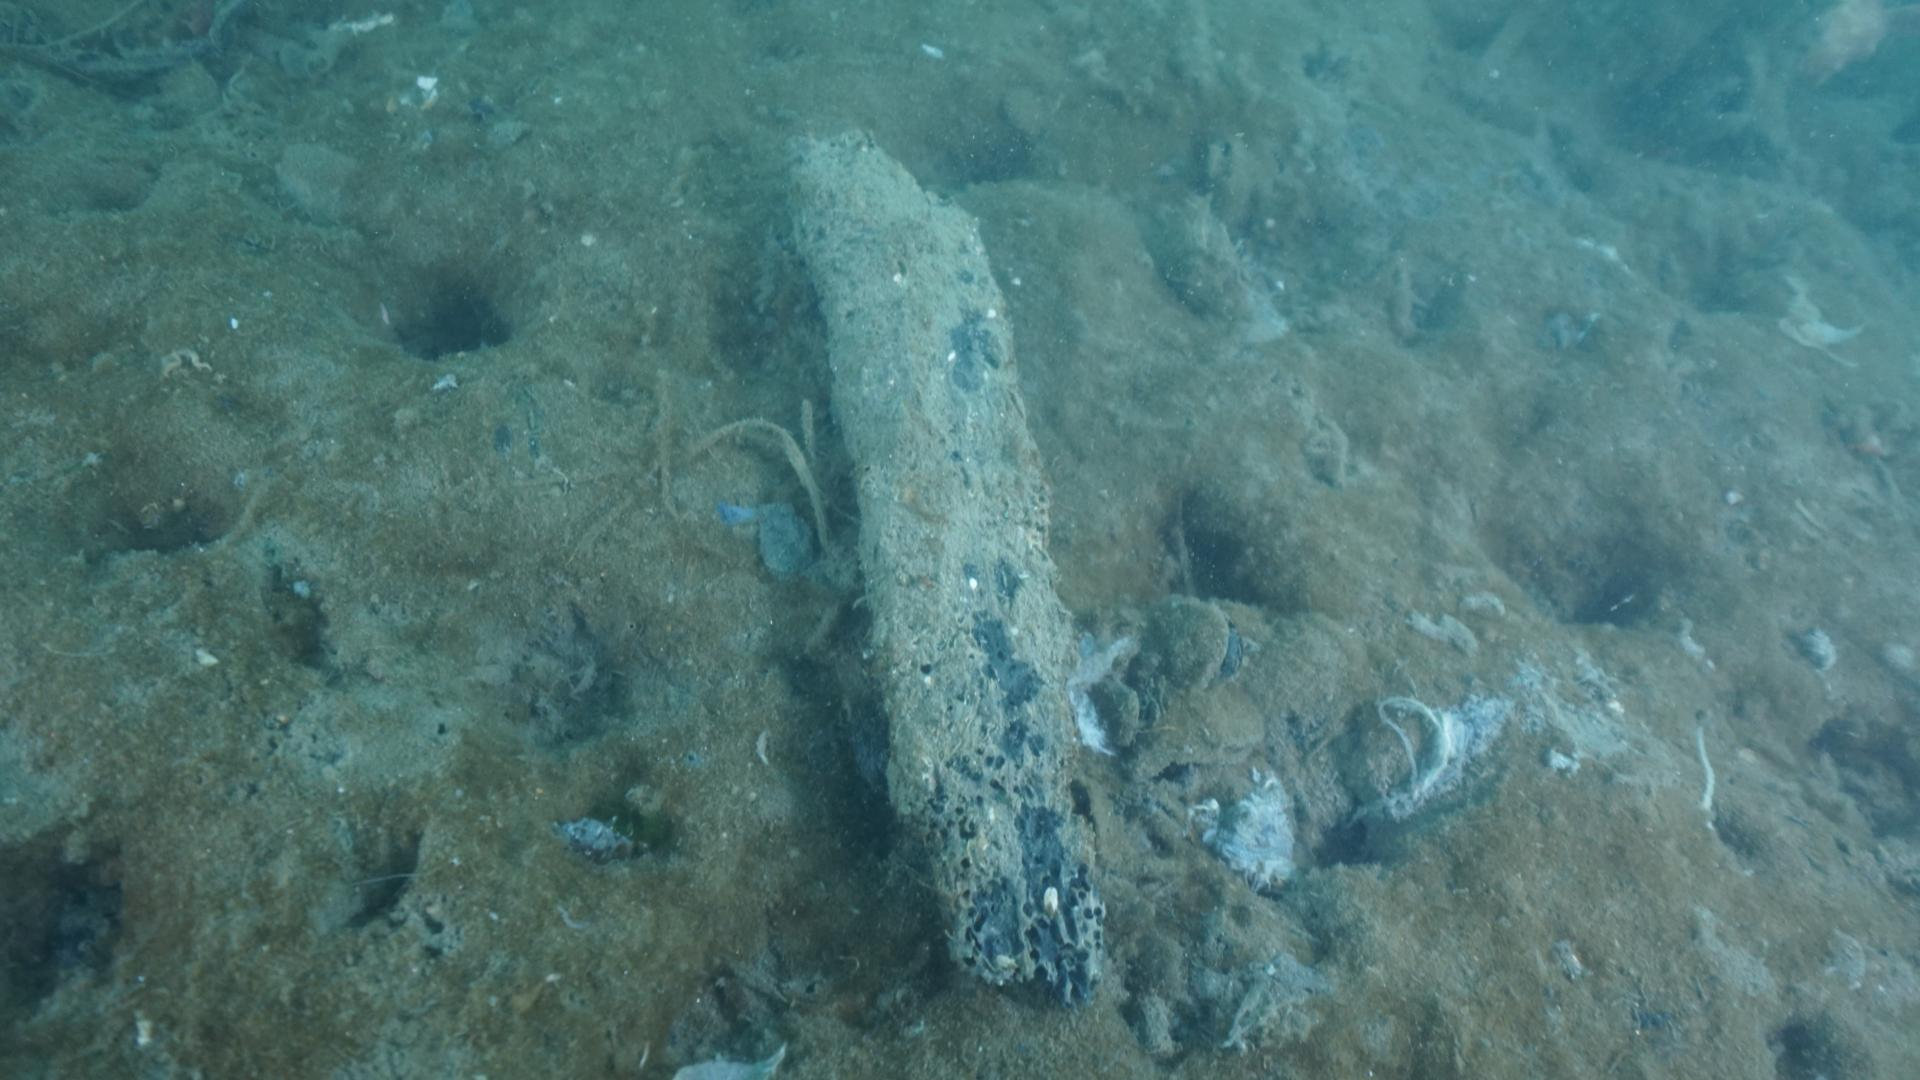wood: (779, 123, 1106, 1021)
